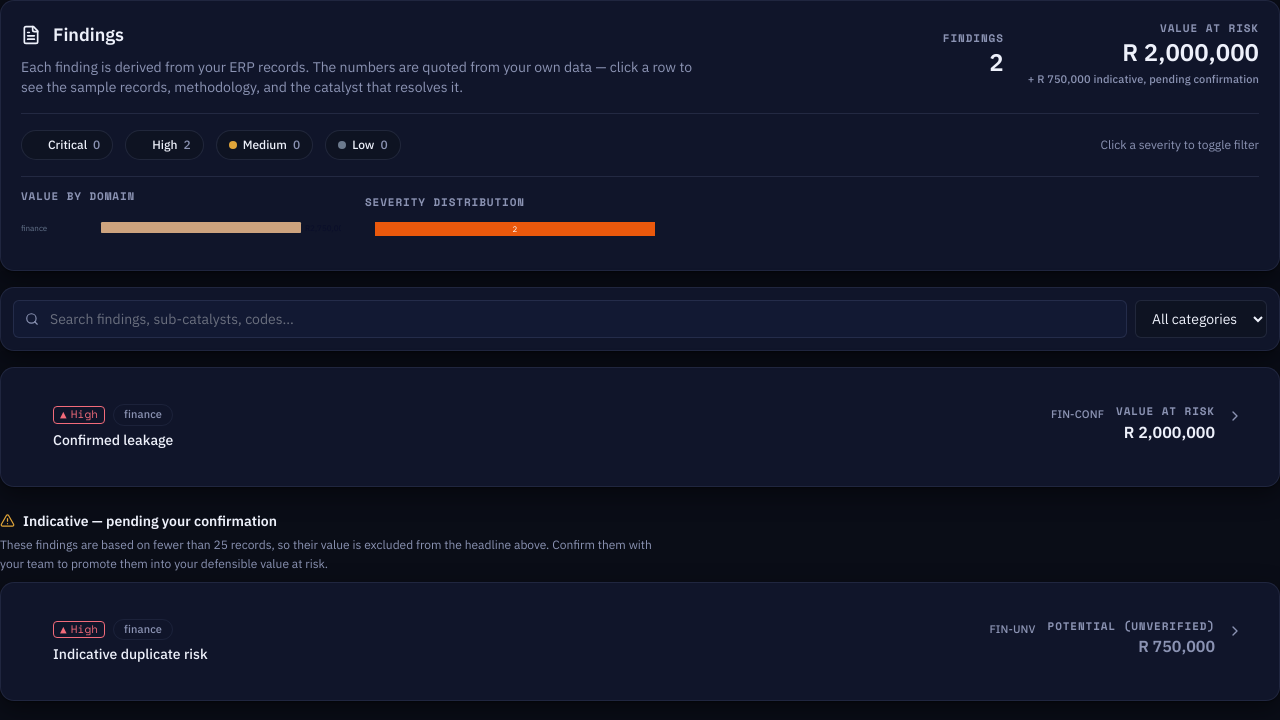
Test: AssessmentFindingsPanel — Option B confidence render › renders a 'Verified' confidence band + ERP source ref for the confirmed finding
The width and height of the screenshot is (1280, 720).
Click the text "Confirmed leakage" at (113, 440), box [53,431,173,449]
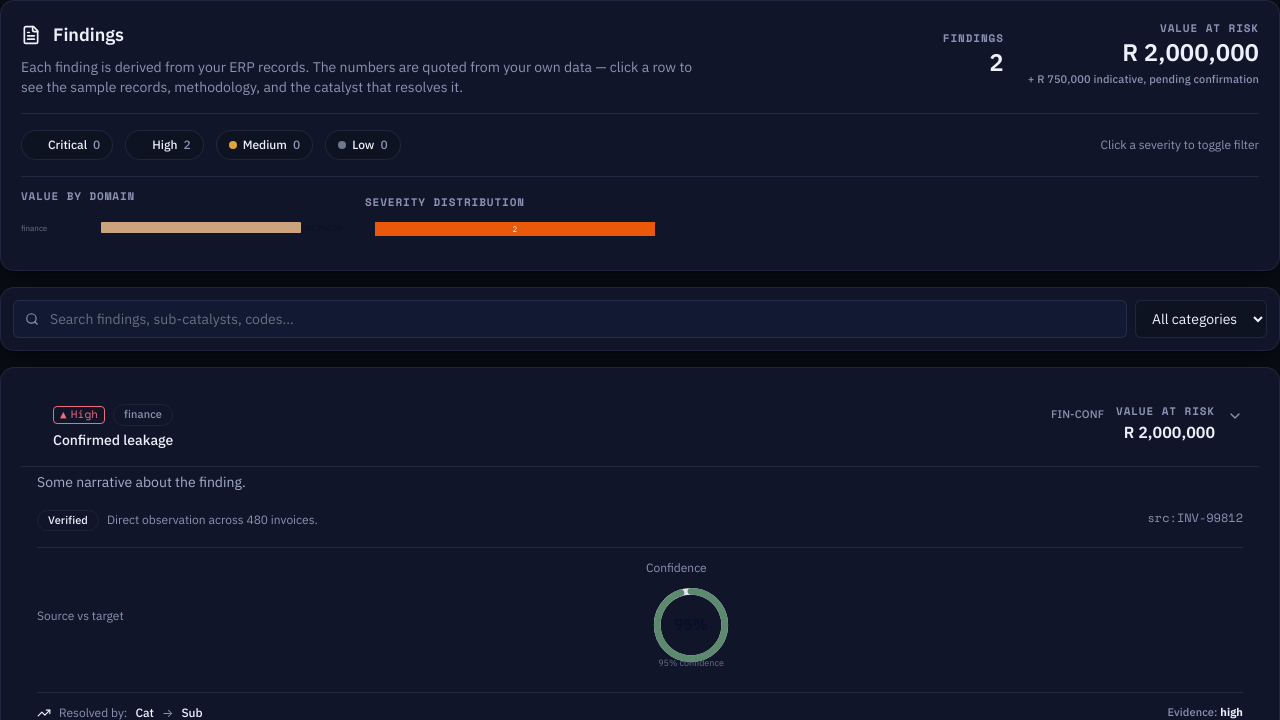
Now the element with test id "finding-confidence-FIN-CONF" shows "Verified", box [48,512,88,526]
Now the element with test id "finding-confidence-FIN-CONF" shows "src:INV-99812", box [37,510,1243,531]
